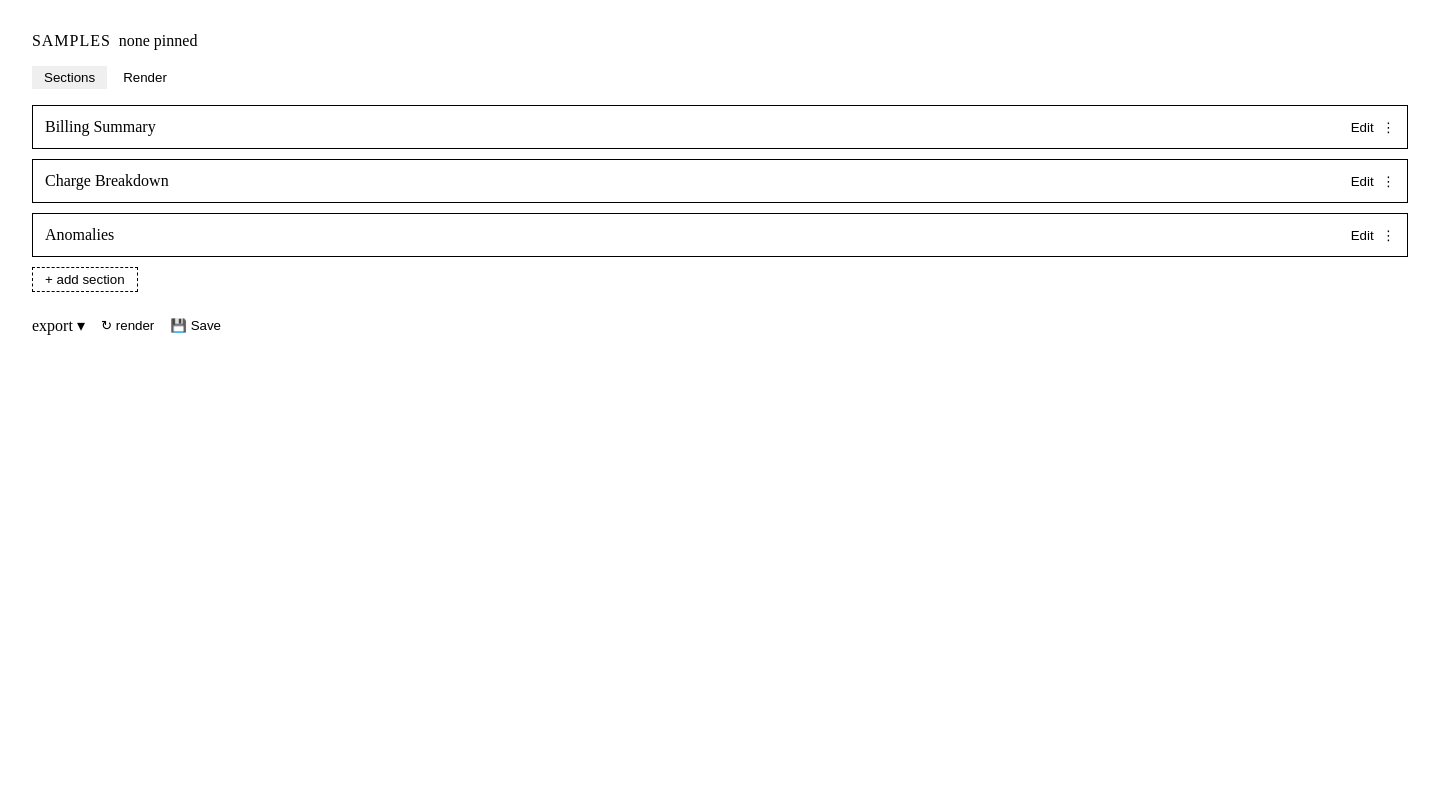
Test case: SmartReportBuilder — 2026-05-29-smart-report-screen Phase 4 › make variable records the USER-CHOSEN token (step-16 follow-up), not a hardcoded literal
Click the button with test id "report-builder-edit-billing_summary" at (1362, 127), box [1351, 120, 1374, 134]
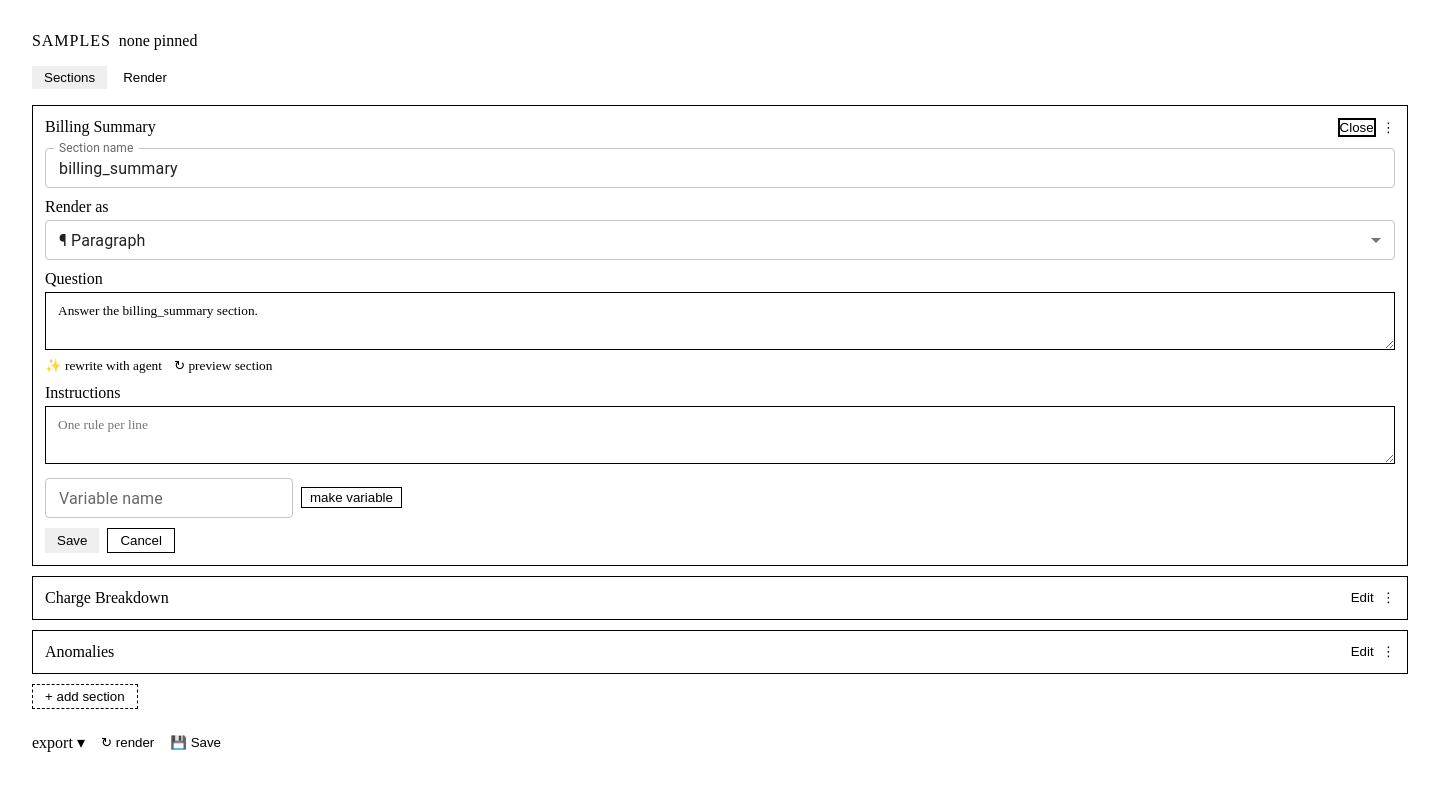
The user names the variable (not a hardcoded "project").
Type "billing_period" into the field with test id "report-builder-variable-name-billing_summary" at (169, 498), box [45, 478, 293, 518]
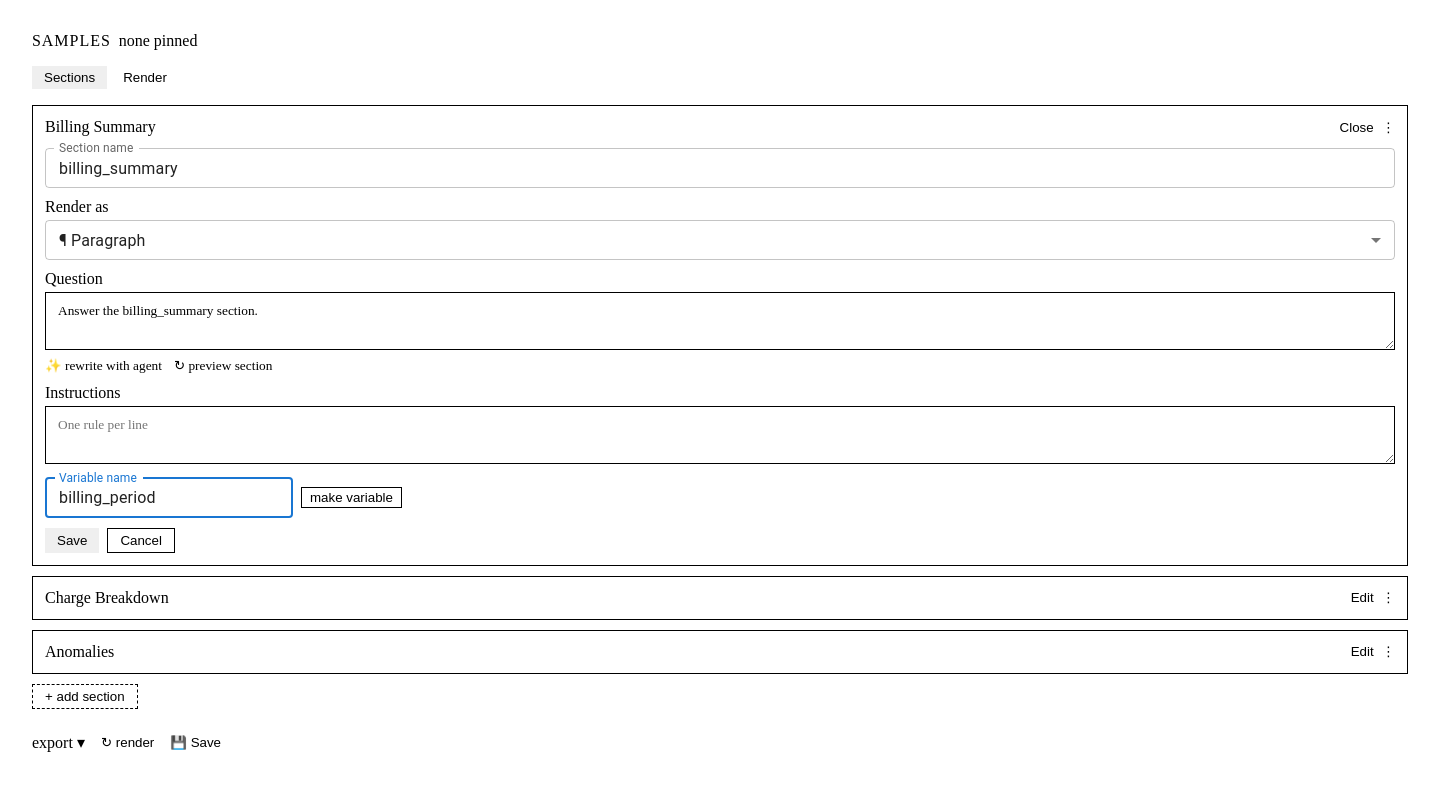
Click the button with test id "report-builder-make-variable-billing_summary" at (352, 498), box [301, 487, 402, 508]
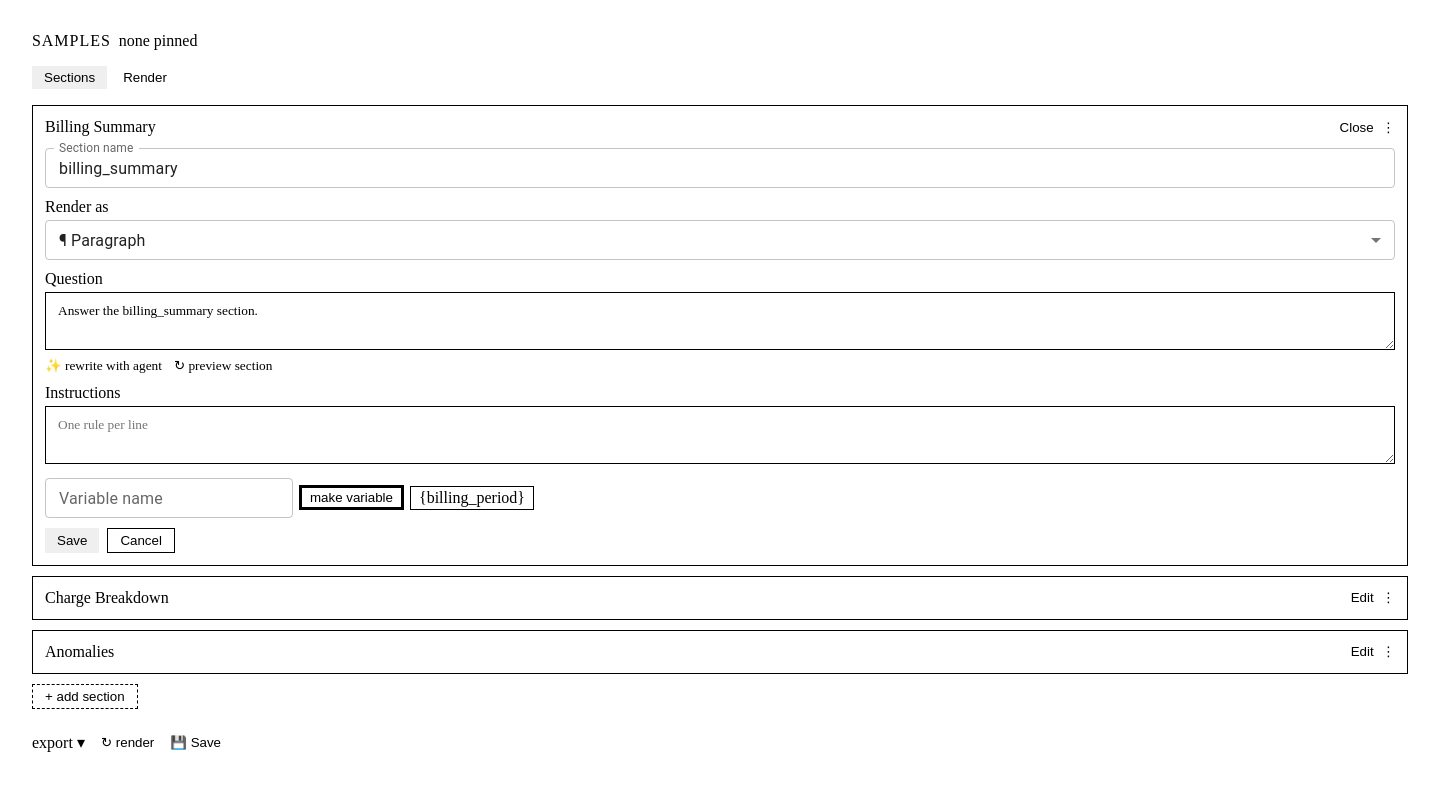
Check: the text with test id "report-builder-variable-billing_summary-billing_period" reads "{billing_period}", box [419, 489, 525, 506]
